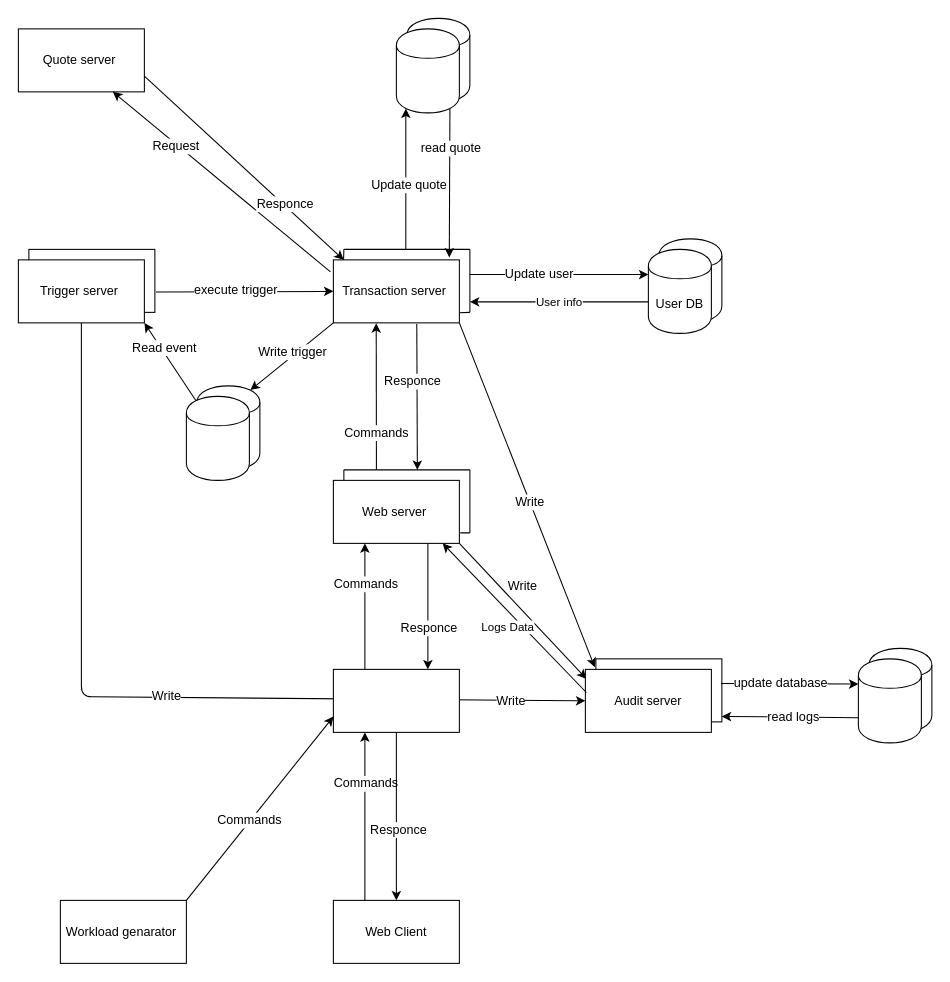
This 950x982 diagram has some shape labels left out. Each missing label, with the centre of its shape:
"Audit DB" goes at (889,700).
"Event DB" goes at (217,437).
"Load balancer" goes at (395,700).
"Quote DB" goes at (427,70).
